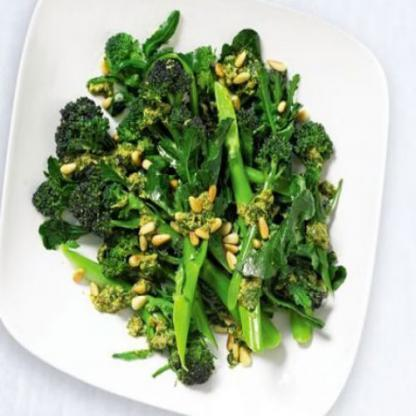broccoli: (32, 13, 348, 387)
